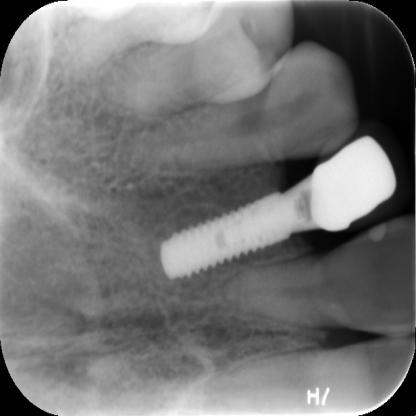ITI: (155, 189, 304, 285)
